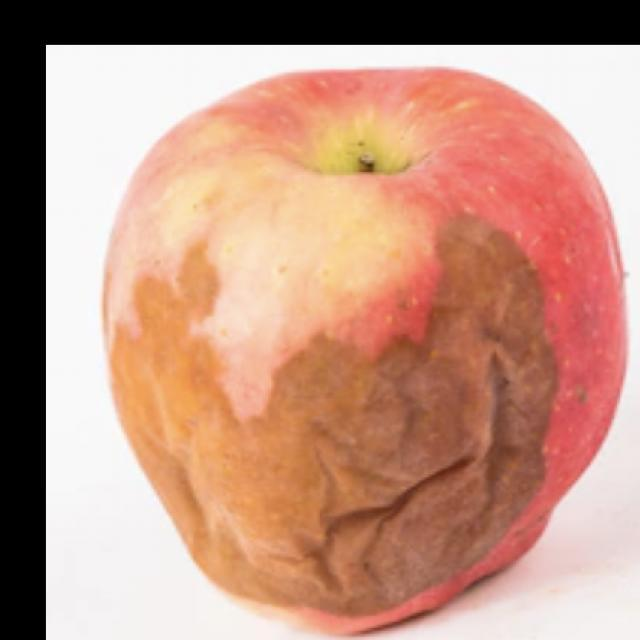Rotten: (143, 77, 612, 613)
